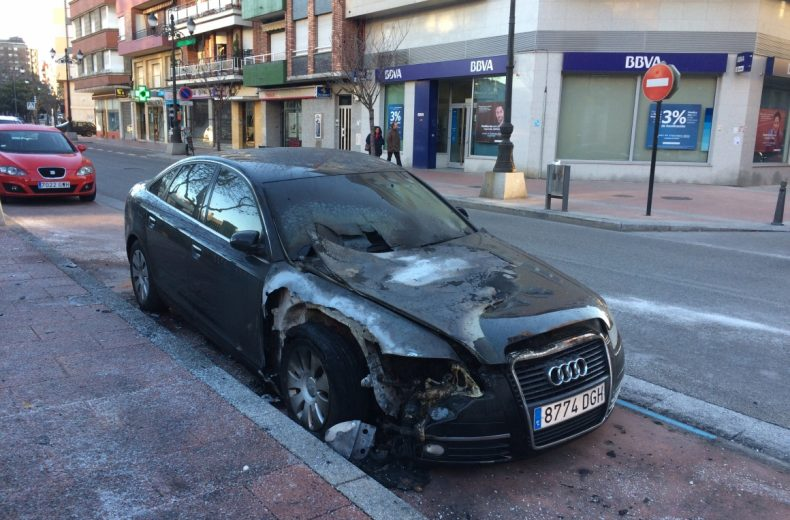car: (110, 145, 645, 482), (2, 120, 99, 209), (58, 118, 99, 139)
